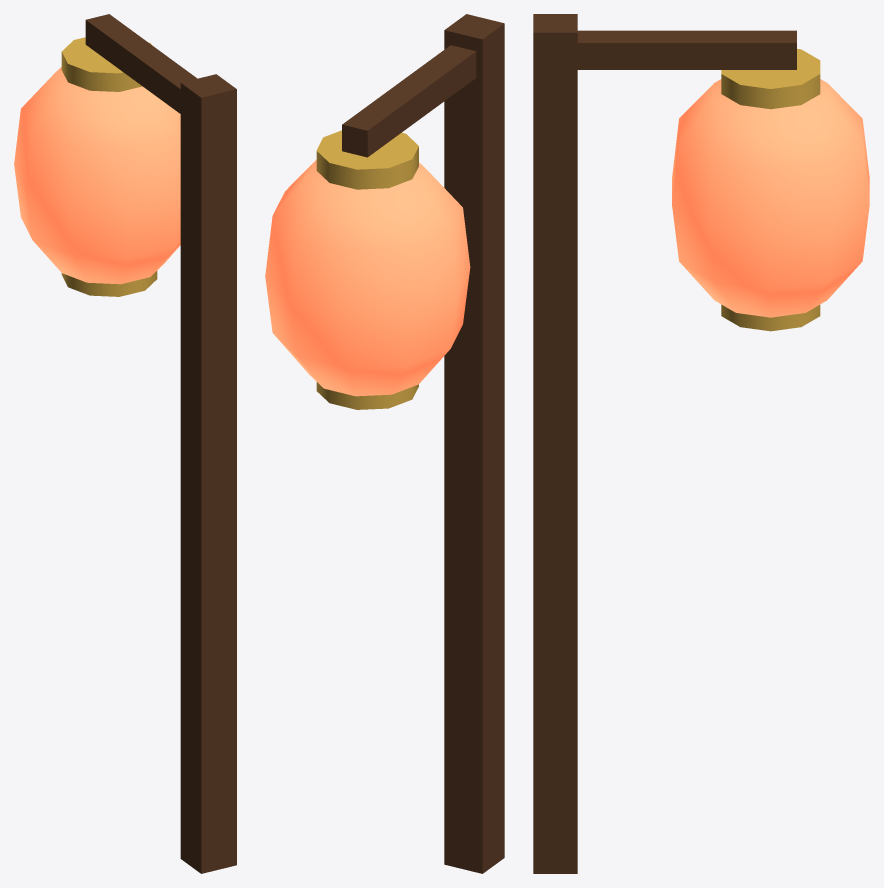
The model's file is paperlamp.glb.
3 renders of one model, left to right at view 1: azimuth 30°, elevation 25°; view 2: azimuth 150°, elevation 25°; view 3: azimuth 270°, elevation 25°, orthographic. The views are drawn at different scales.
Visible parts, largest first — view 1: Wood_5C3A22, Lamp_FF5A4E, Gold_E6B84A; view 2: Wood_5C3A22, Lamp_FF5A4E, Gold_E6B84A; view 3: Wood_5C3A22, Lamp_FF5A4E, Gold_E6B84A.
Boxes of the visible parts, x1=… form: Wood_5C3A22: x1=85, y1=14, x2=236, y2=873; Lamp_FF5A4E: x1=14, y1=67, x2=180, y2=284; Gold_E6B84A: x1=61, y1=37, x2=157, y2=296; Wood_5C3A22: x1=342, y1=14, x2=504, y2=873; Lamp_FF5A4E: x1=265, y1=159, x2=470, y2=396; Gold_E6B84A: x1=316, y1=130, x2=418, y2=409; Wood_5C3A22: x1=533, y1=14, x2=796, y2=873; Lamp_FF5A4E: x1=672, y1=79, x2=869, y2=317; Gold_E6B84A: x1=721, y1=49, x2=820, y2=331.
Size of the model in its own units: 2 by 8.93 by 3.24.
